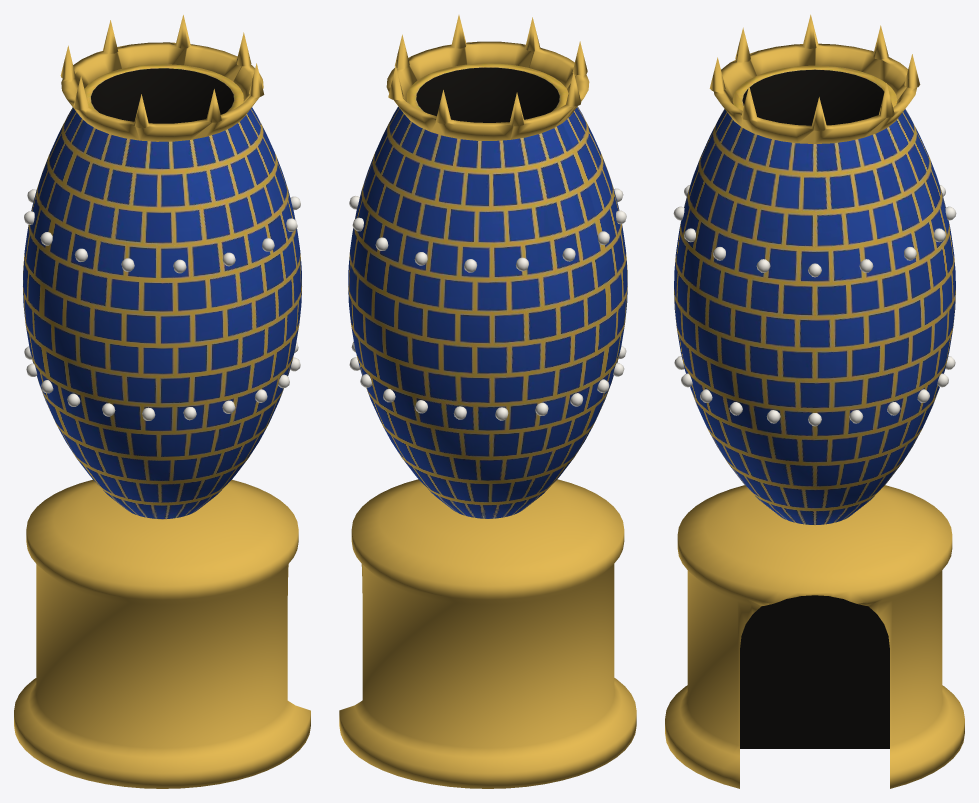
File: jeweled-egg.glb
The picture shows the model from 3 angles, left to right: view 1: azimuth 30°, elevation 25°; view 2: azimuth 150°, elevation 25°; view 3: azimuth 270°, elevation 25°; orthographic projection.
Parts seen in each view (by area): view 1: egg, gold.001, pearls; view 2: egg, gold.001, pearls; view 3: egg, gold.001, pearls.
Part boxes in pixels (left/top/right/bottom): egg: left=23, top=64, right=301, bottom=519; gold.001: left=14, top=15, right=310, bottom=788; pearls: left=24, top=189, right=300, bottom=420; egg: left=348, top=63, right=627, bottom=518; gold.001: left=339, top=15, right=636, bottom=788; pearls: left=349, top=188, right=626, bottom=420; egg: left=674, top=65, right=955, bottom=525; gold.001: left=665, top=14, right=964, bottom=788; pearls: left=673, top=185, right=956, bottom=426.
Size of the model in its own units: 5.83 by 15 by 6.
Materials: 5 (1 with a texture image).
